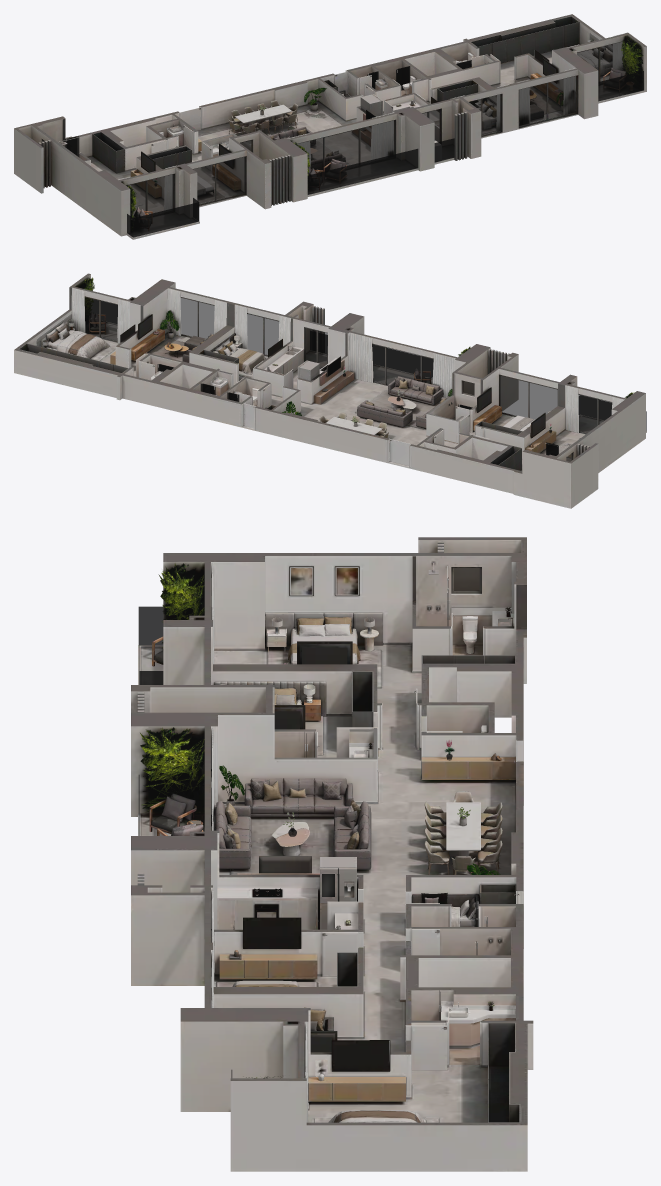
Rendered from apartment-lite.glb.
3 renders of one model, top to bottom at view 1: azimuth 30°, elevation 25°; view 2: azimuth 150°, elevation 25°; view 3: azimuth 270°, elevation 25°, orthographic. The views are drawn at different scales.
Visible parts, largest first — view 1: Object_8, Object_4, Object_6, Object_11; view 2: Object_8, Object_4, Object_6, Object_13, Object_11; view 3: Object_8, Object_6, Object_11, Object_4.
Part boxes in pixels (<box>): Object_8: <box>14,14,646,239</box>; Object_4: <box>43,42,643,237</box>; Object_6: <box>134,48,625,222</box>; Object_11: <box>127,38,643,229</box>; Object_8: <box>14,273,646,508</box>; Object_4: <box>84,297,646,461</box>; Object_6: <box>46,311,571,457</box>; Object_13: <box>160,310,551,434</box>; Object_11: <box>78,277,634,398</box>; Object_8: <box>131,537,533,1171</box>; Object_6: <box>161,617,479,1122</box>; Object_11: <box>140,563,281,1078</box>; Object_4: <box>138,568,487,1077</box>.
Bounding box in the file's own units: 31.56 × 2.72 × 9.95.
Materials: 5 (4 with a texture image).
